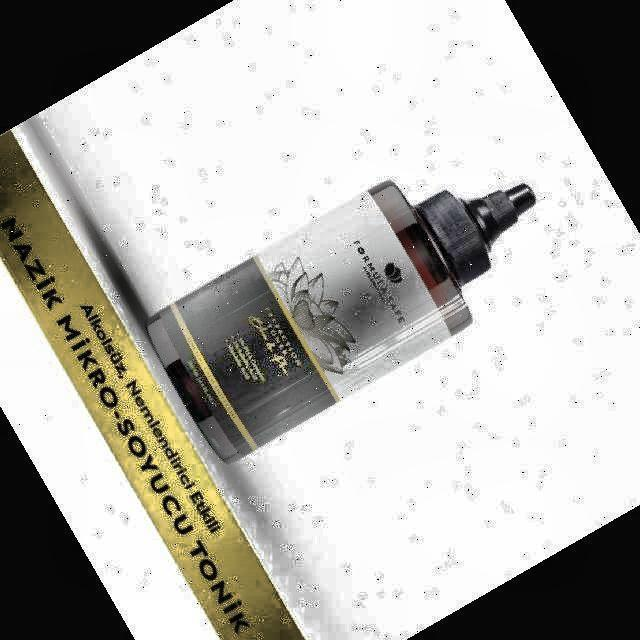plastic: (148, 181, 535, 462)
